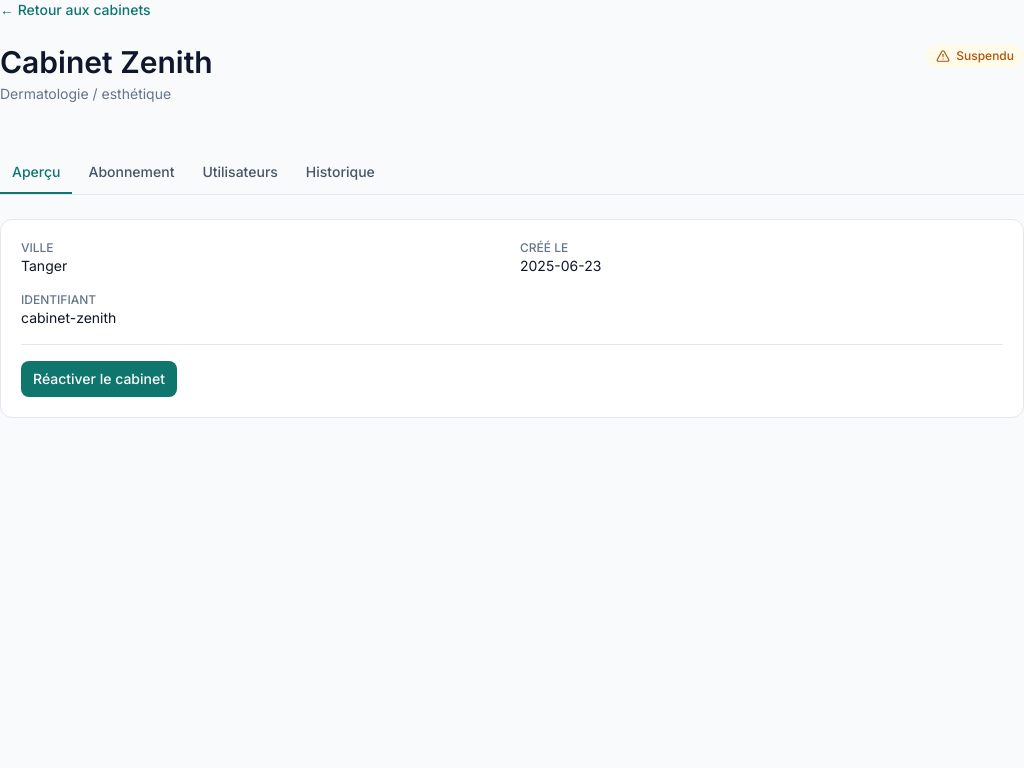
TenantDetailPage › a suspended tenant (Zenith) offers only Reactivate, and confirming it flips the status badge
Expected: the button "Suspendre le cabinet" is not shown
Click the button "Réactiver le cabinet" at (99, 379), box [21,361,177,397]
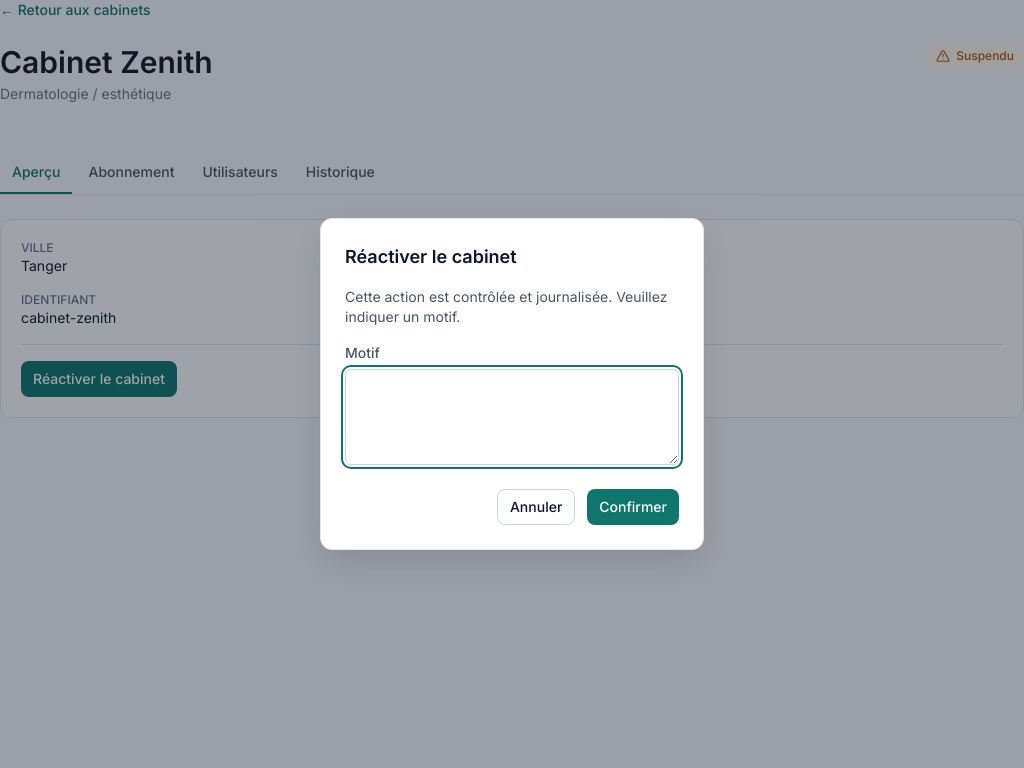
Type "Paiement régularisé." into the text box labelled "Motif" at (512, 417), box [345,369,679,465]
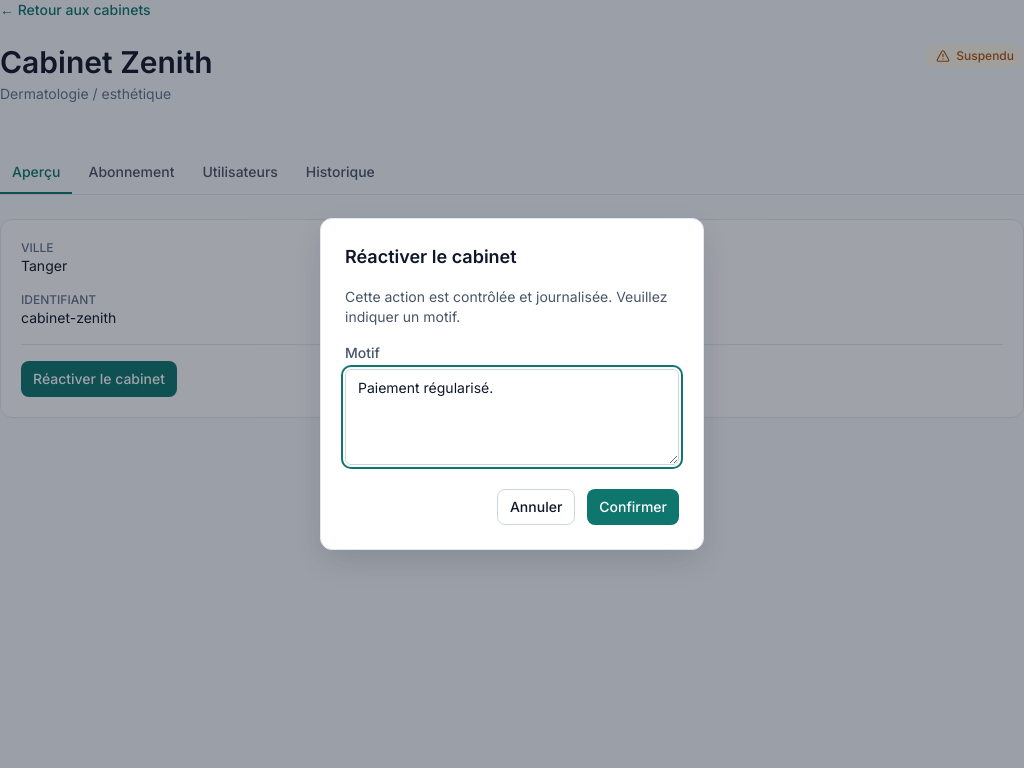
Click the button "Confirmer" at (633, 507), box [587,489,679,525]
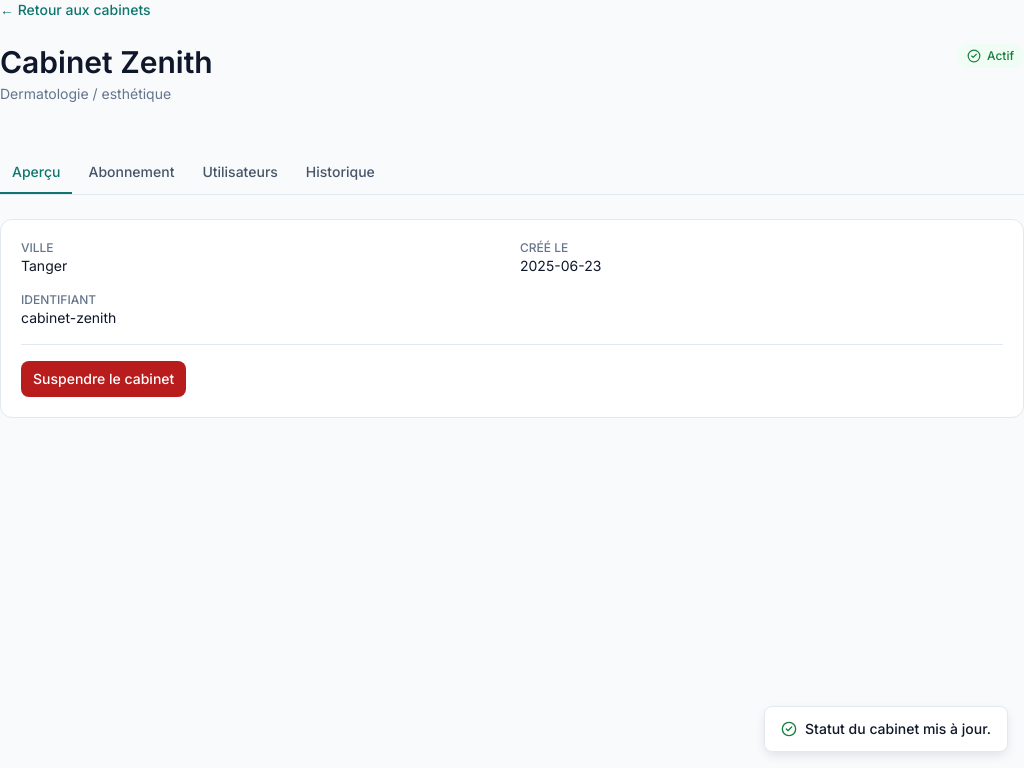
Expected: the text "Statut du cabinet mis à jour." is shown, [764,706,1008,752]
Click the tab "Historique" at (340, 173), box [294,152,387,194]
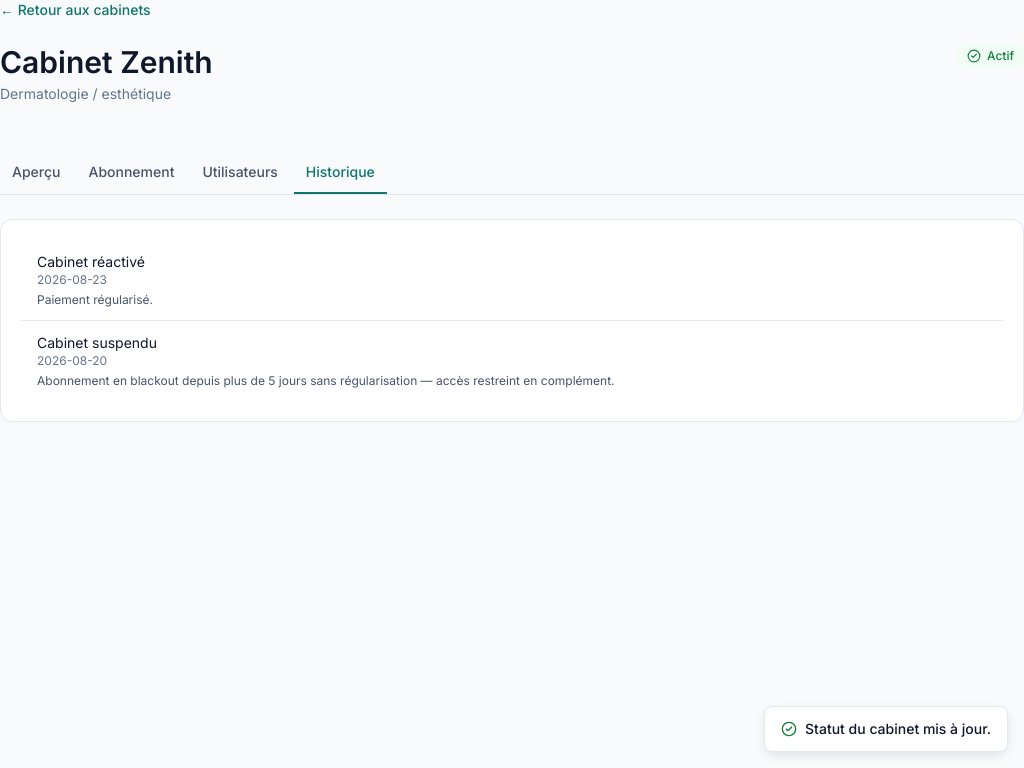
Expected: the text "Cabinet réactivé" is shown, [37,253,145,270]
Expected: the text "Paiement régularisé." is shown, [37,292,153,307]
